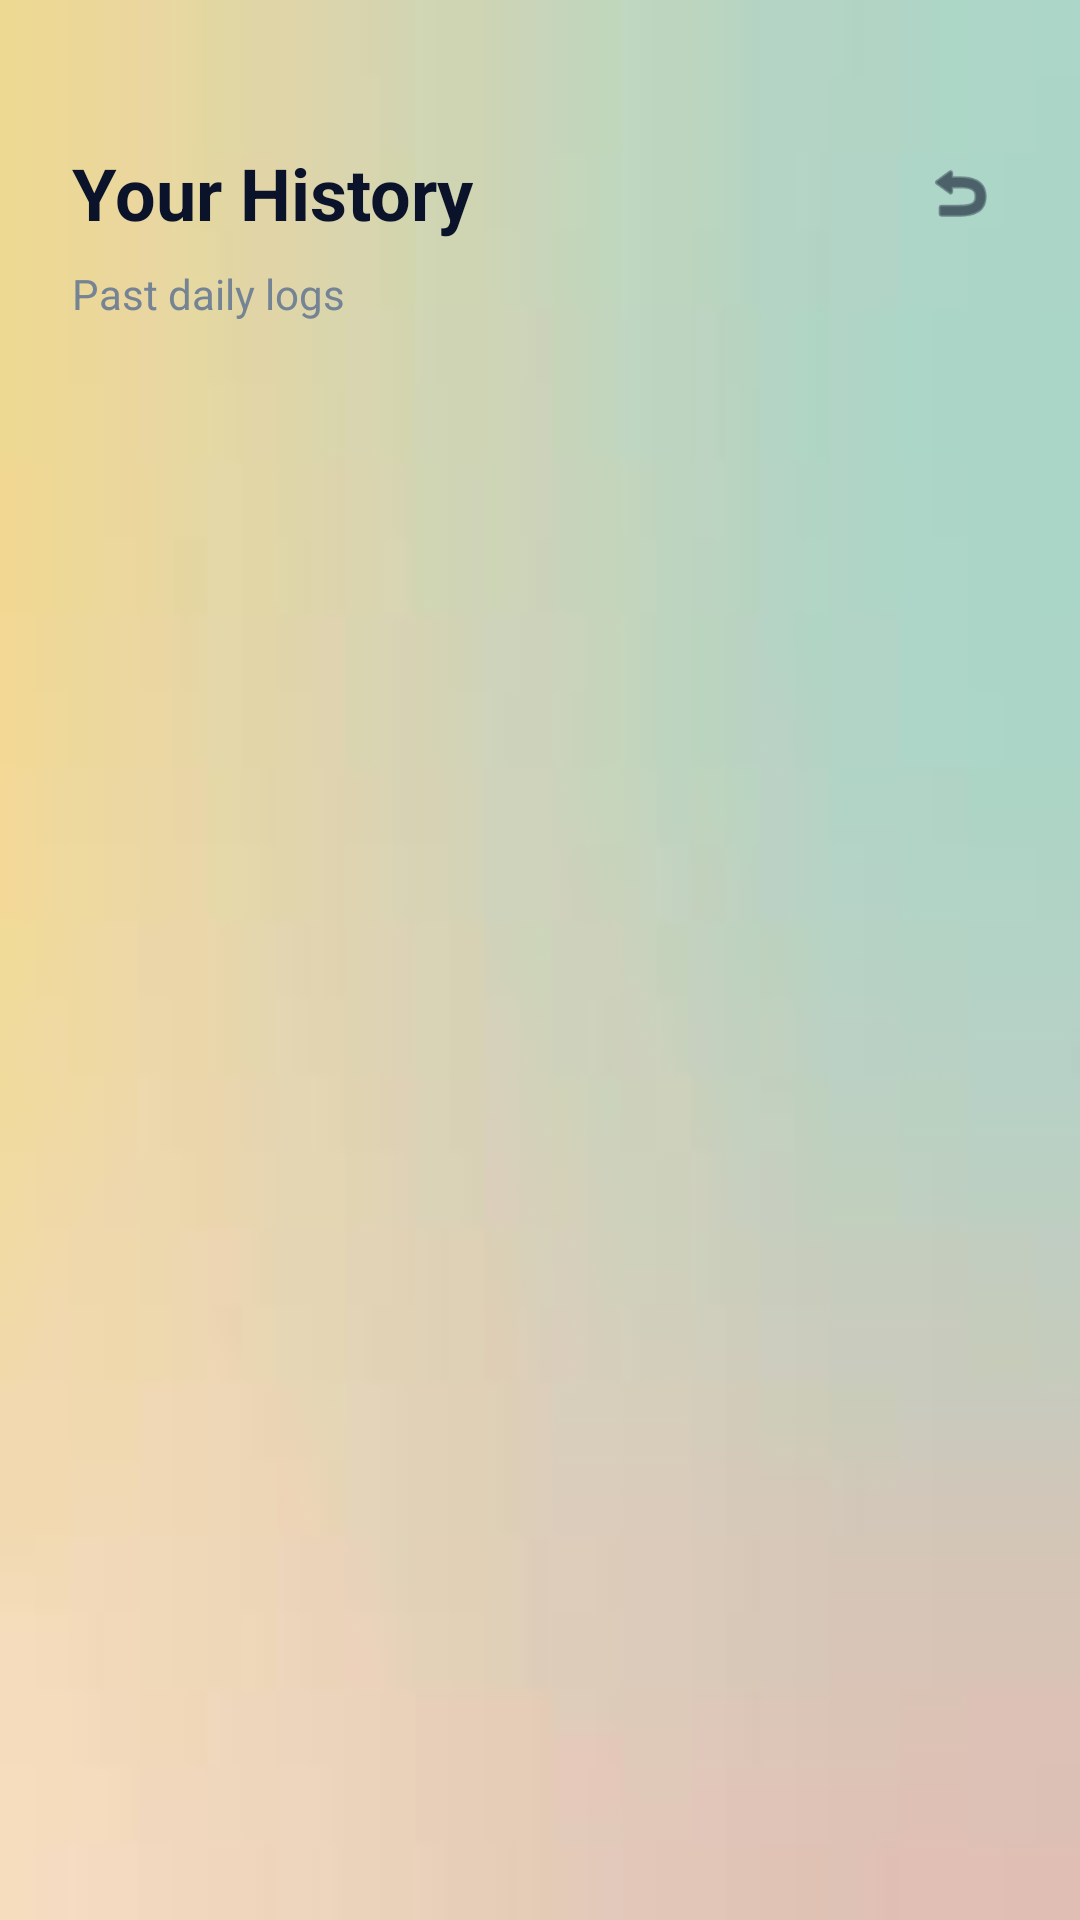

Named icons in this screenshot (1080px×1920px) and their bounding boxes, [x1, y1, x2, y2]:
revert: [935, 170, 987, 217]
